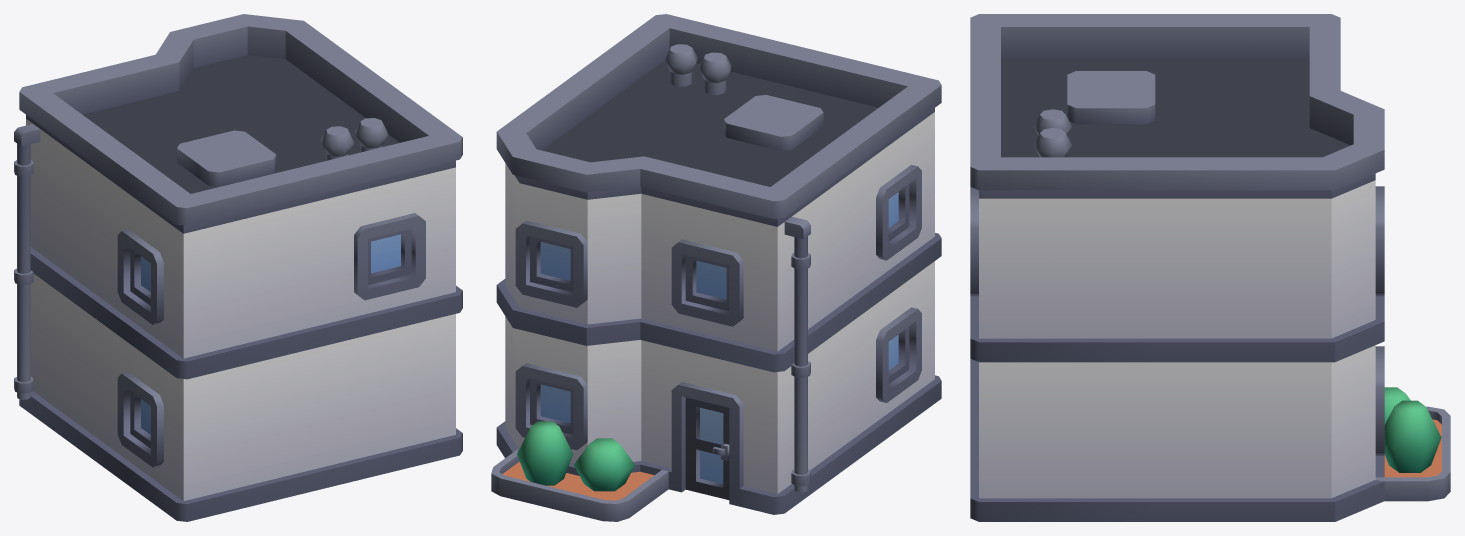
3 views of the same model, side by side, from view 1: azimuth 30°, elevation 25°; view 2: azimuth 150°, elevation 25°; view 3: azimuth 270°, elevation 25° (orthographic). The views are drawn at different scales.
Parts seen in each view (by area): view 1: building-c; view 2: building-c; view 3: building-c.
Boxes of the visible parts, left/top/right/bottom form: building-c: left=14, top=14, right=462, bottom=521; building-c: left=491, top=14, right=941, bottom=521; building-c: left=970, top=14, right=1450, bottom=521.
Size of the model in its own units: 8.2 by 8.29 by 10.12.
Materials: 1 (1 with a texture image).
